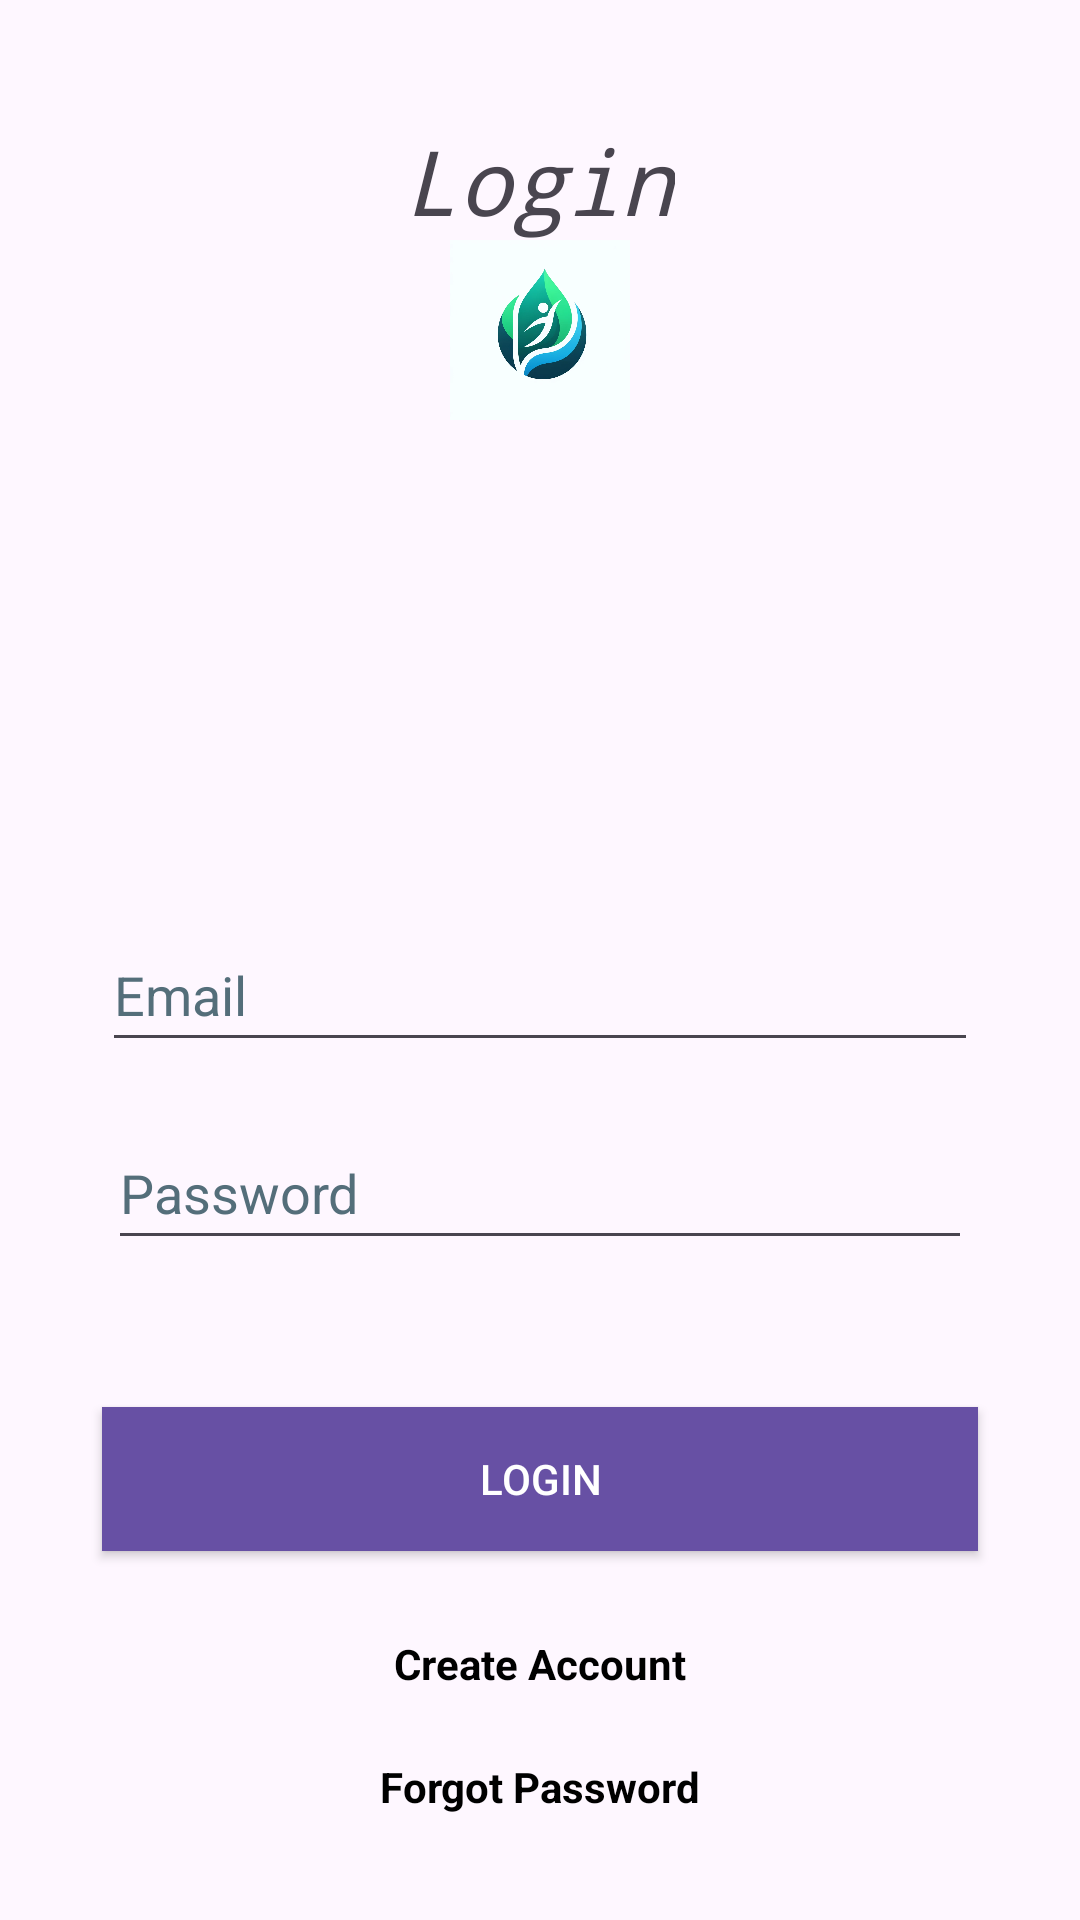

Icon click points for this 1080×1920 phone screenshot, format (x,y):
app icon: (542,324)
